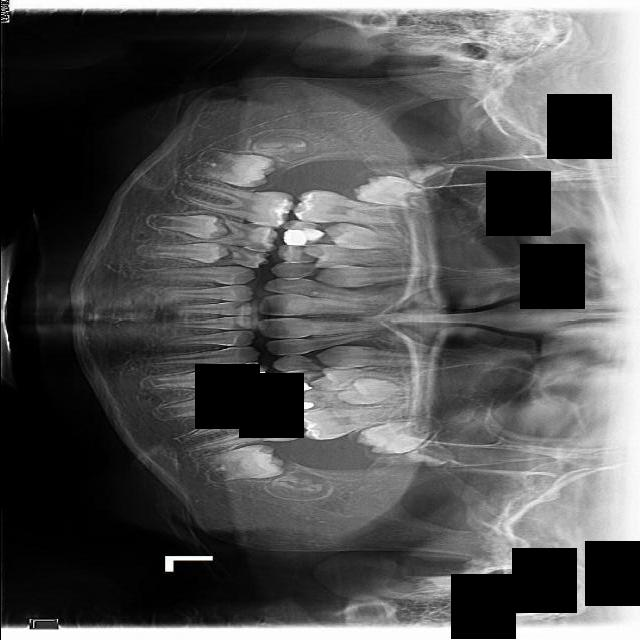NucleOSS Implant: (252, 375, 283, 410), (279, 375, 313, 398), (286, 387, 314, 412), (282, 230, 306, 246), (253, 370, 269, 383)
Straumann Implant: (270, 408, 300, 439), (297, 413, 322, 442)
